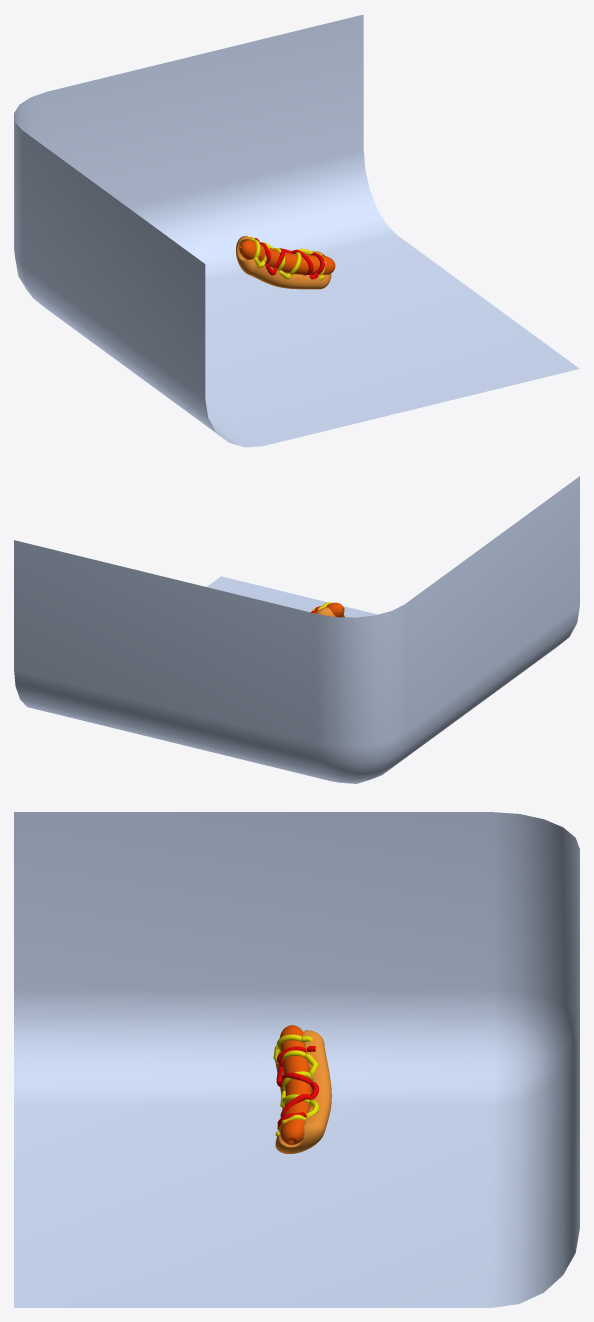
The model's file is uploads_files_4172756_sausage.fbx.
3 views of the same model, one above another, from view 1: azimuth 30°, elevation 25°; view 2: azimuth 150°, elevation 25°; view 3: azimuth 270°, elevation 25° (orthographic). The views are drawn at different scales.
Parts seen in each view (by area): view 1: Plane, Sphere; view 2: Plane; view 3: Plane, Sphere.
Part boxes in pixels (x1,y1,x2,y2): Plane: (14,14,579,447); Sphere: (236,236,335,289); Plane: (14,476,579,783); Plane: (14,812,579,1307); Sphere: (273,1025,331,1153).
Bounding box in the file's own units: 542 × 271 × 542.
